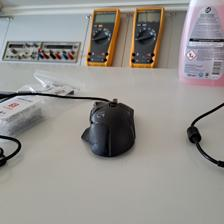mouse: (81, 98, 137, 158)
